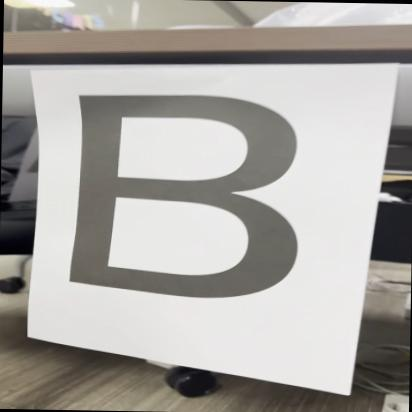seat: (54, 88, 310, 314)
